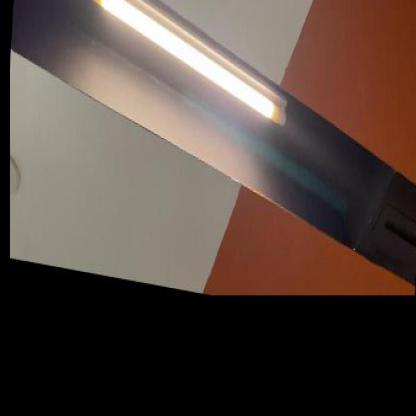light_on: (67, 0, 303, 147)
